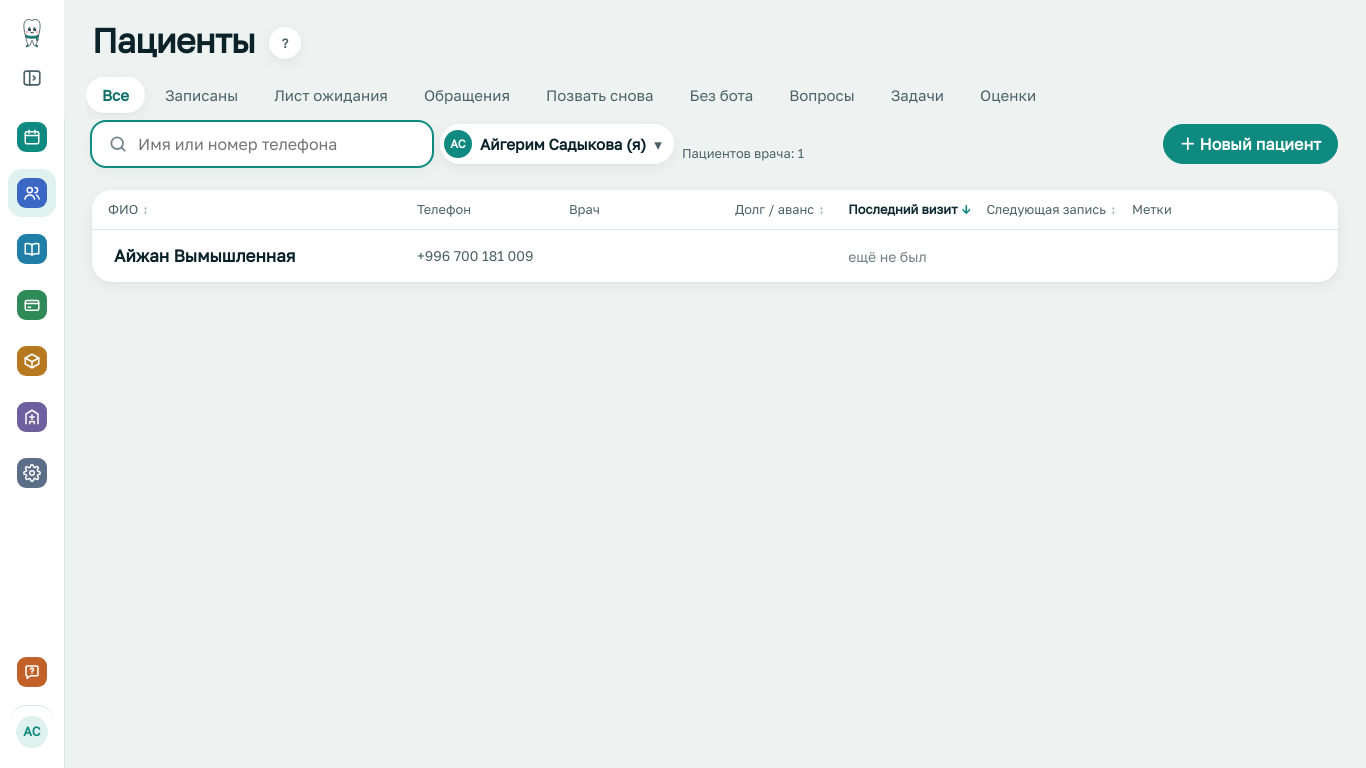
Scenario: подпись пальцем: пустую не отправить, нарисовали — PNG уходит вместе с отметкой
Click the button "Айжан Вымышленная": click(205, 256) [114, 243, 296, 269]
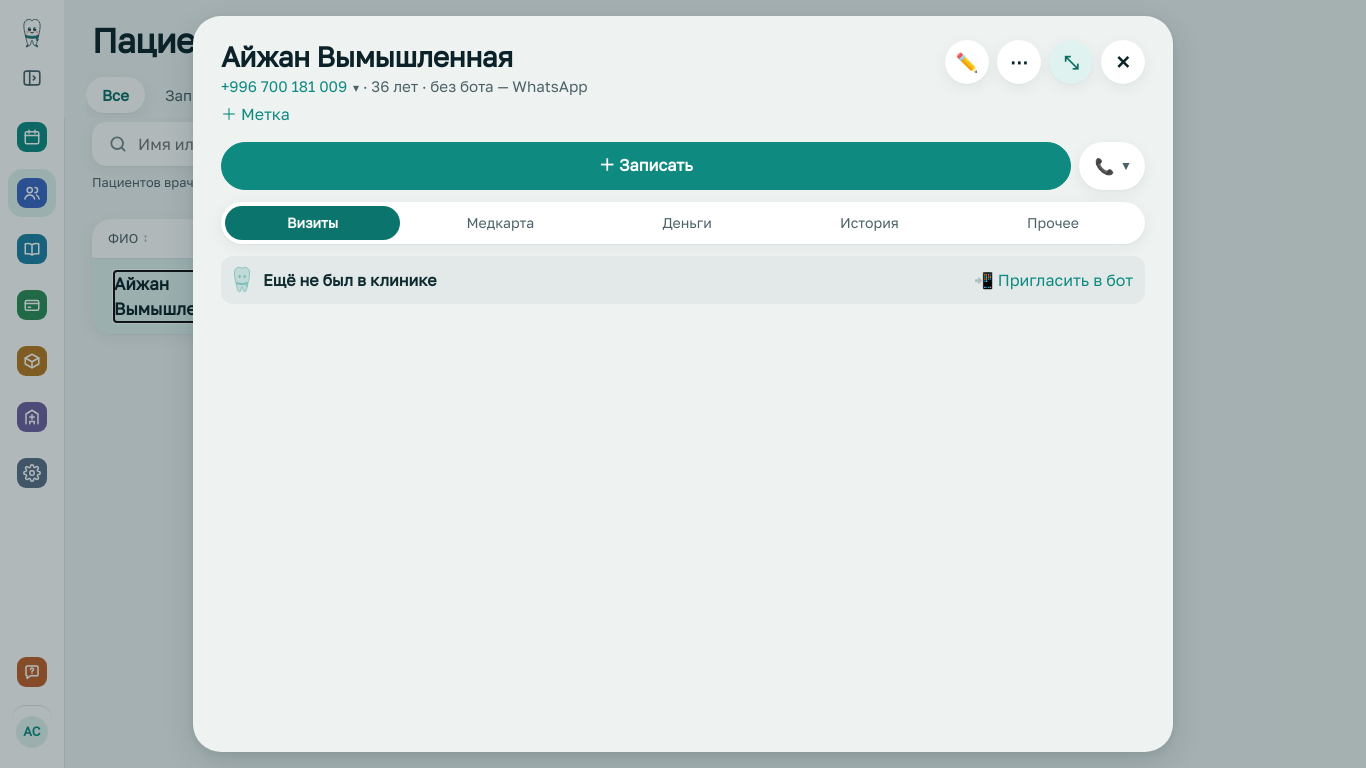
Click the tab "Прочее": click(1053, 223) [965, 206, 1141, 240]
(page scrolled)
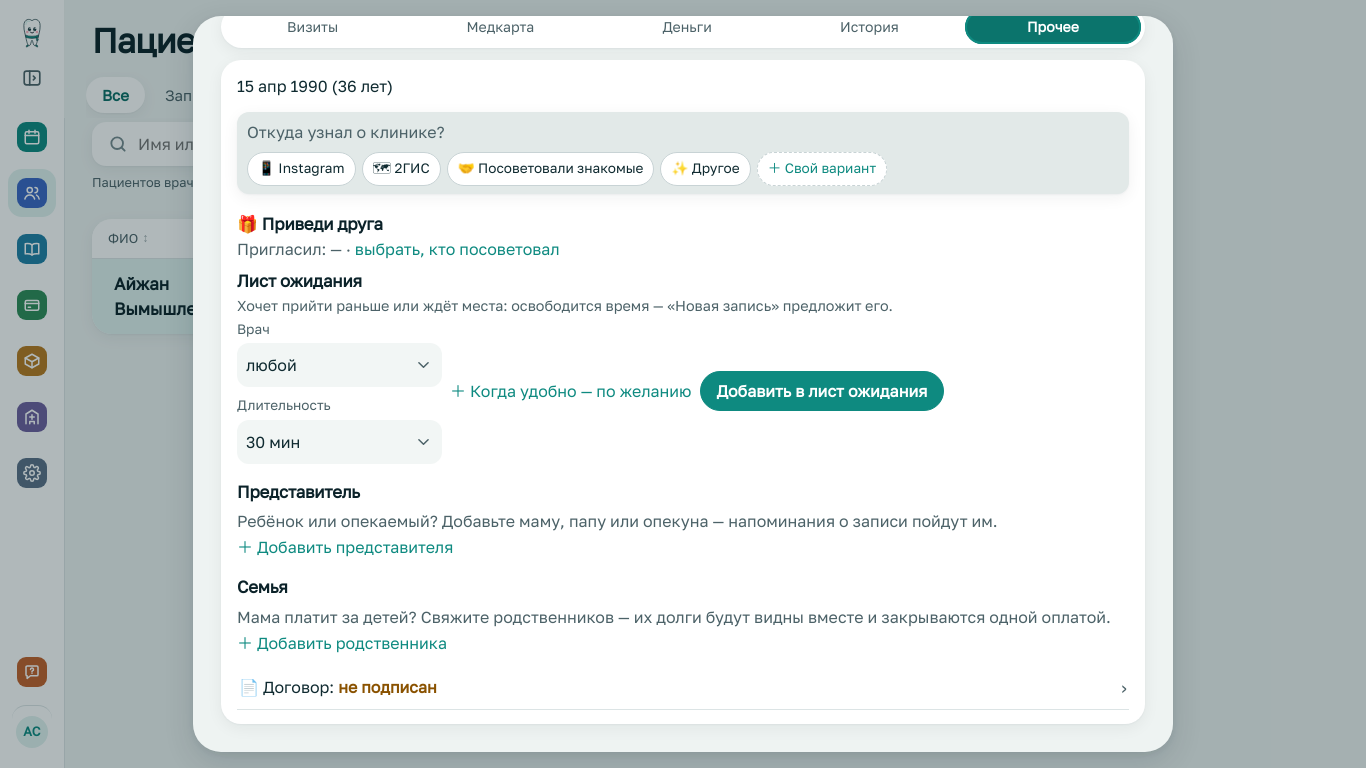
Click the button "📄 Договор: не подписан ›": click(289, 687) [237, 665, 1129, 709]
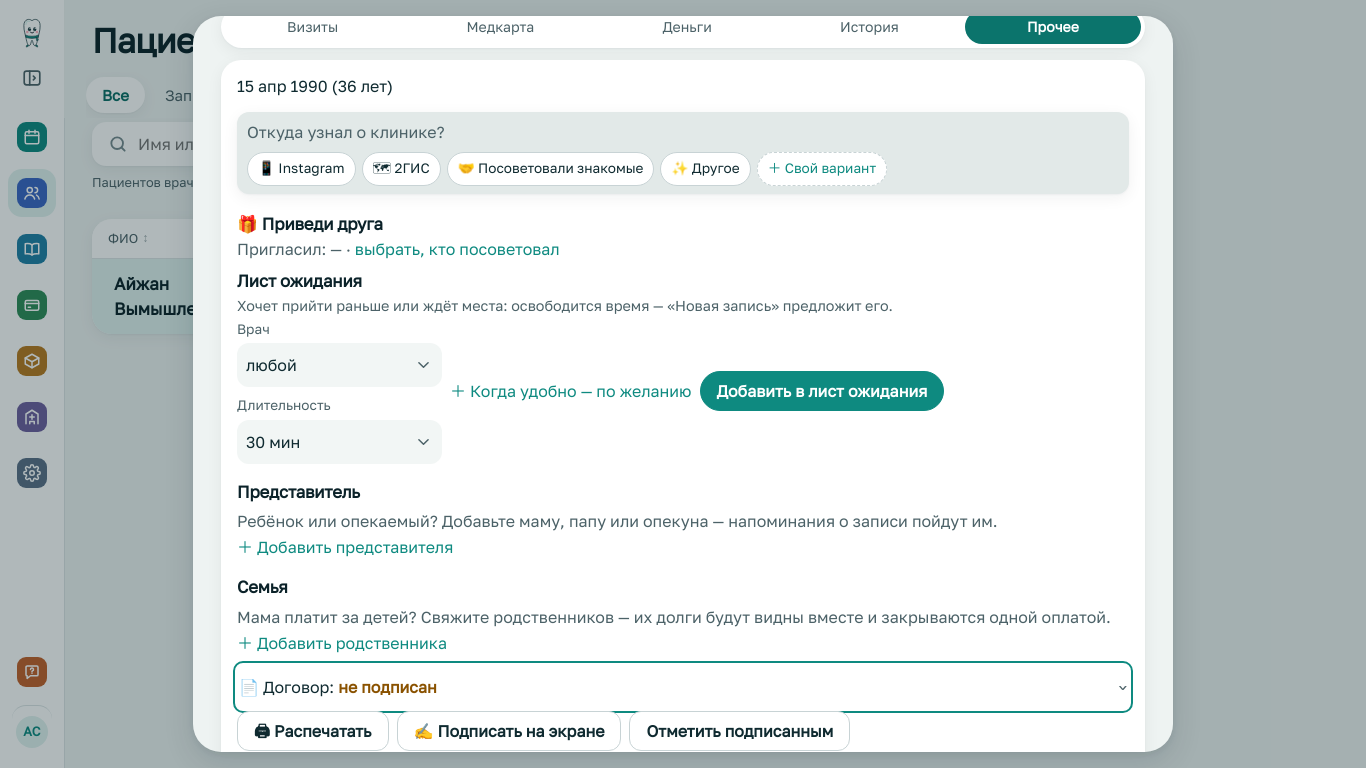
Click the button "✍️ Подписать на экране": click(509, 731) [396, 711, 621, 751]
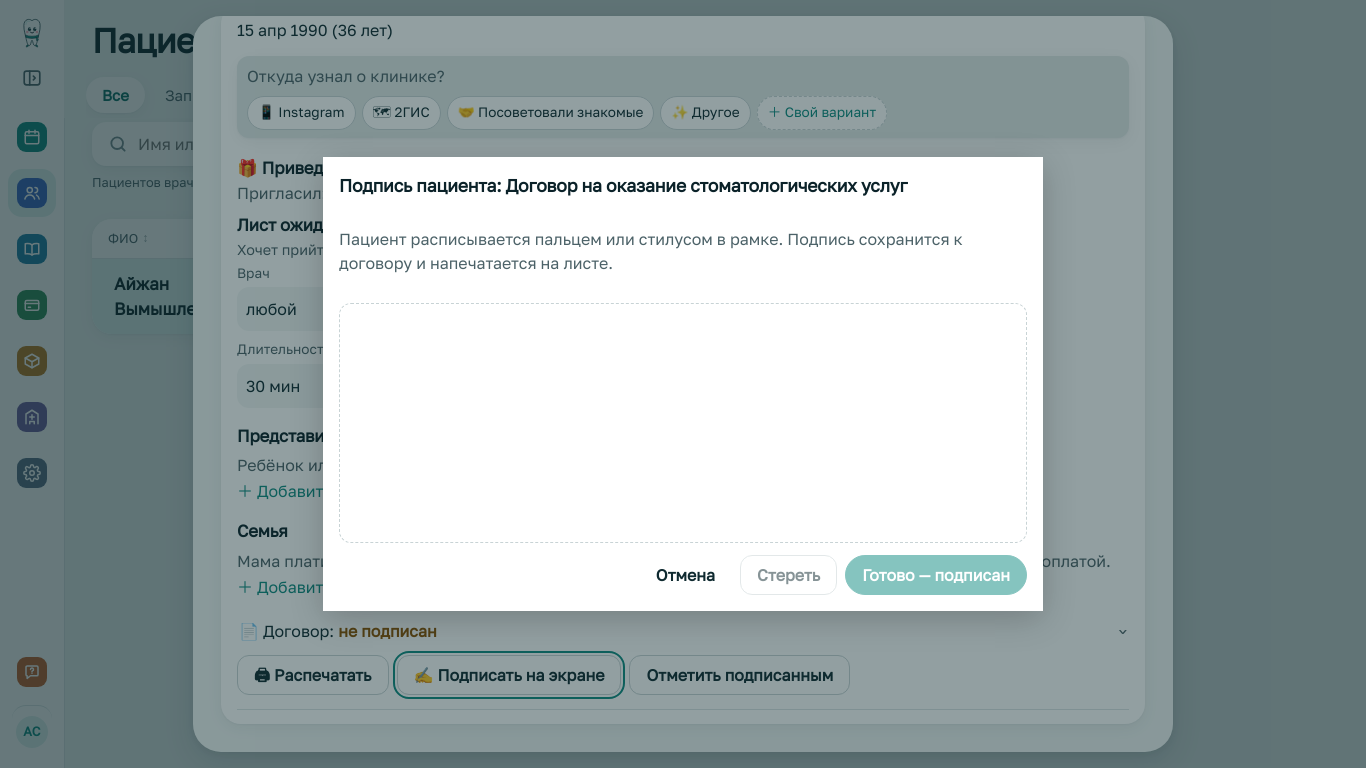
Expected: the button "Готово — подписан" is disabled, [845, 555, 1027, 595]
Press the mouse on the drawing named "Поле для подписи": (683, 423) [339, 303, 1027, 543]
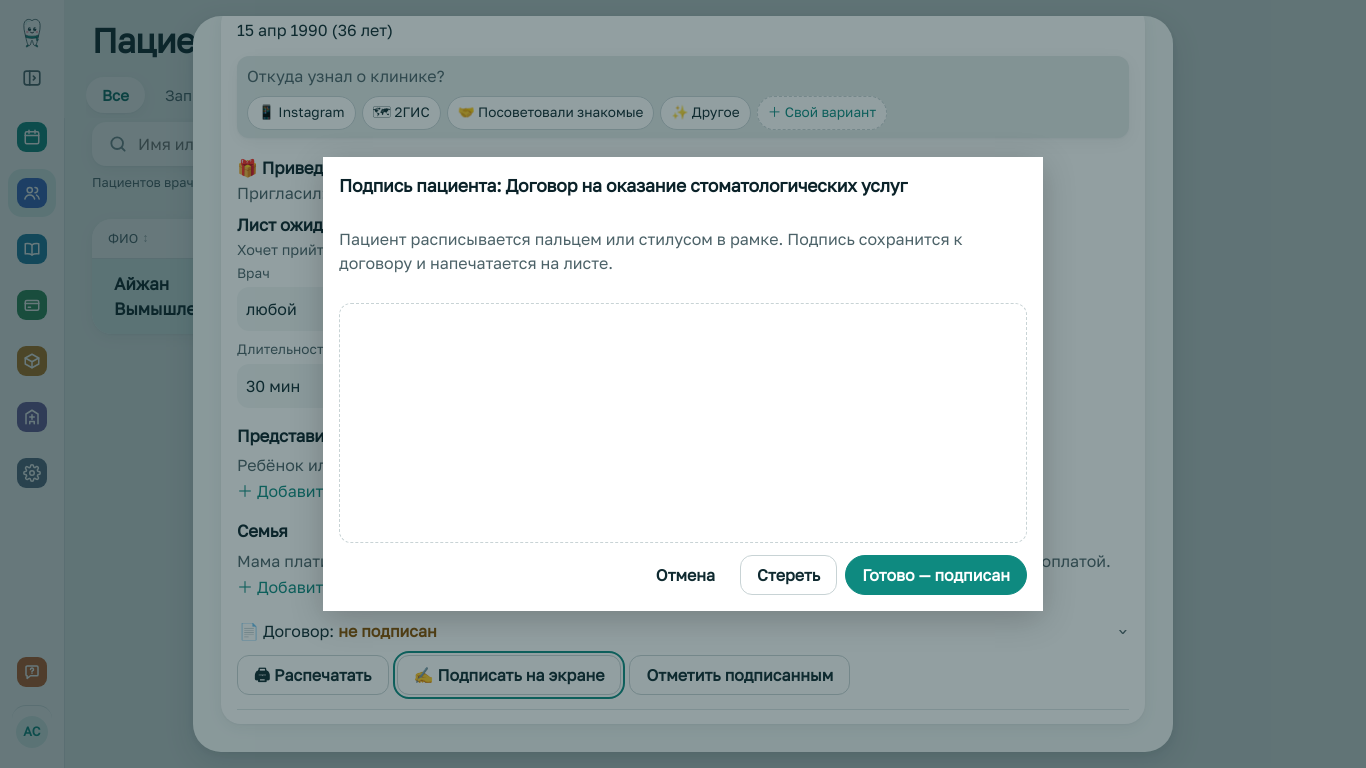
Click the button "Готово — подписан": click(936, 575) [845, 555, 1027, 595]
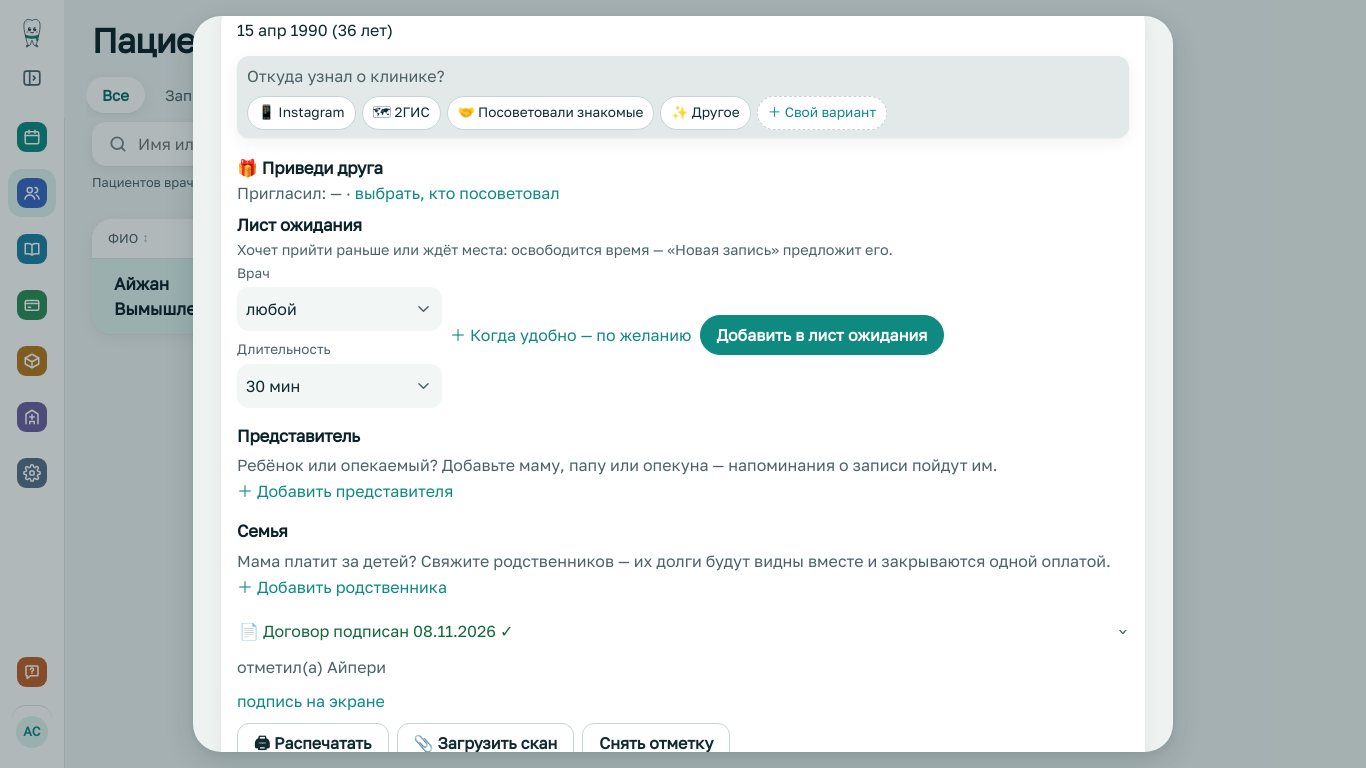
Expected: the button "📄 Договор подписан 08.11.2026 ✓ ›" is shown, [237, 609, 1129, 653]
Expected: the heading "Подпись пациента" is gone
Expected: the button "подпись на экране" is shown, [237, 689, 385, 713]
